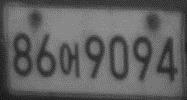0: (109, 34, 129, 80)
4: (153, 34, 180, 82)
6: (33, 33, 57, 78)
8: (11, 33, 34, 77)
9: (130, 34, 154, 82), (84, 34, 106, 80)
어: (58, 40, 82, 78)
